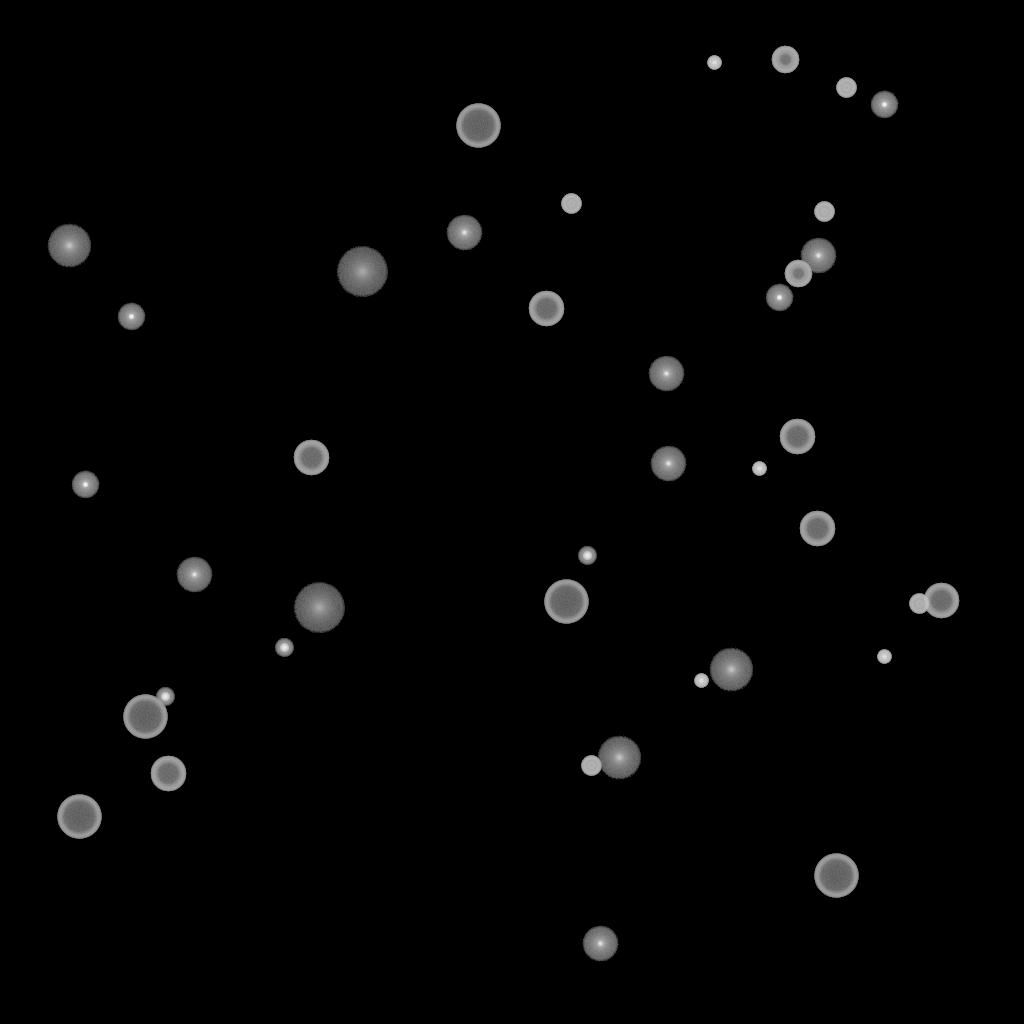depth:-10: (117, 303, 145, 331), (870, 91, 898, 119), (71, 471, 99, 499), (765, 284, 793, 312)
depth:-20: (275, 639, 293, 657), (578, 547, 596, 565), (156, 688, 174, 706)
depth:-30: (707, 56, 721, 70), (694, 674, 708, 688), (752, 462, 766, 476), (877, 650, 891, 664)
depth:-40: (814, 202, 834, 222), (836, 78, 856, 98), (581, 756, 601, 776), (909, 594, 929, 614), (561, 194, 581, 214)
depth:-50: (784, 260, 812, 288), (771, 46, 799, 74)
depth:-60: (528, 291, 564, 327), (799, 511, 835, 547), (150, 756, 186, 792), (779, 419, 815, 455), (923, 583, 959, 619), (293, 440, 329, 476)
depth:-70: (123, 695, 167, 739), (544, 580, 588, 624), (57, 795, 101, 839), (814, 854, 858, 898), (456, 104, 500, 148)
depth:0: (648, 356, 684, 392), (582, 926, 618, 962), (176, 557, 212, 593), (650, 446, 686, 482), (800, 238, 836, 274), (446, 215, 482, 251)
depth:10: (709, 648, 753, 692), (47, 224, 91, 268), (597, 736, 641, 780)
depth:20: (336, 247, 388, 297), (293, 583, 345, 633)
